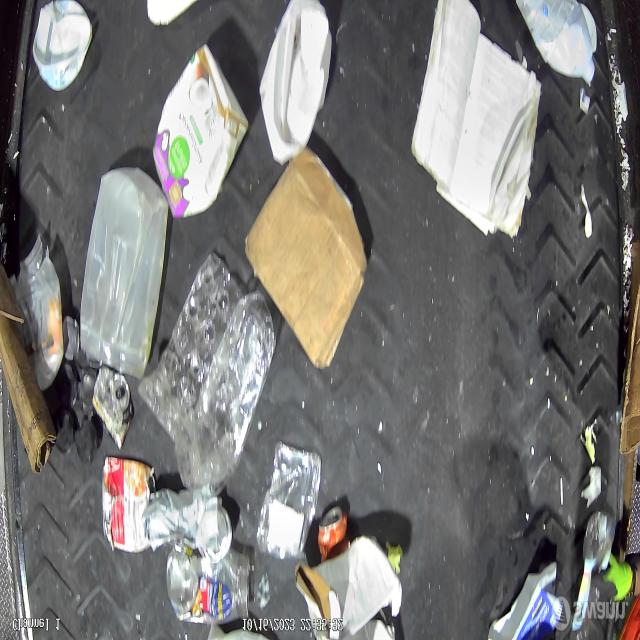can: (102, 456, 156, 555), (92, 364, 134, 450), (319, 506, 349, 560)
milk_jug: (80, 165, 168, 381), (258, 0, 332, 165), (514, 0, 600, 82)
non_white_jug: (153, 45, 250, 218)
plastic_bottle: (258, 442, 322, 558), (164, 550, 252, 626)
